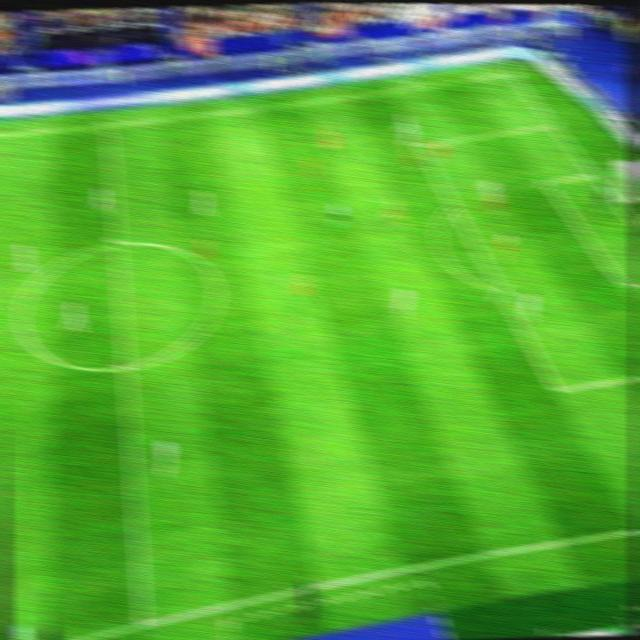bigarea_bottom_inner: (545, 381, 567, 397)
bigarea_top_inner: (411, 138, 428, 154)
bigarea_top_outter: (543, 116, 560, 132)
bottom_arc_area_intersection: (490, 282, 511, 300)
corner: (500, 66, 521, 79)
halfcircle_bottom: (114, 357, 137, 374)
halfcircle_top: (106, 237, 127, 251)
midline_bottom_intersection: (131, 617, 152, 632)
midline_top_intersection: (97, 120, 118, 133)
smallarea_bottom_inner: (612, 280, 633, 294)
smallarea_top_inner: (536, 176, 555, 188)
smallarea_top_outter: (585, 167, 602, 181)
top_arc_area_intersection: (442, 200, 463, 214)
